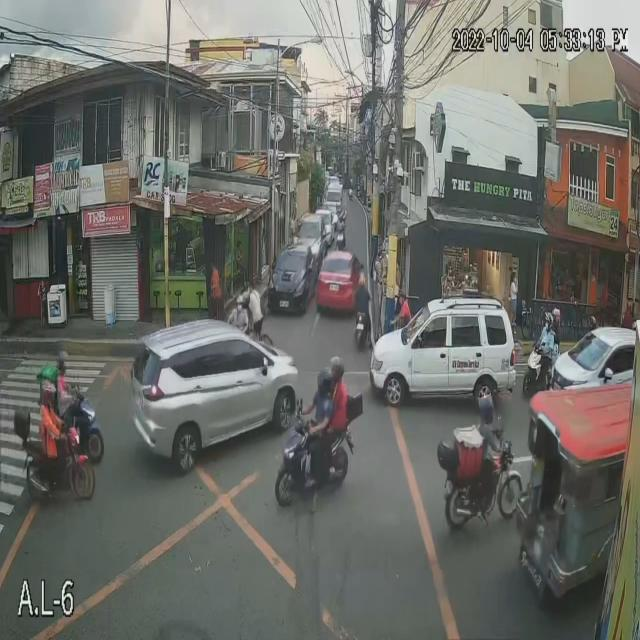full: (315, 365, 334, 401), (478, 392, 496, 426), (330, 355, 346, 385)
half: (542, 312, 554, 331)
invalid: (242, 290, 250, 308), (236, 295, 244, 305)
